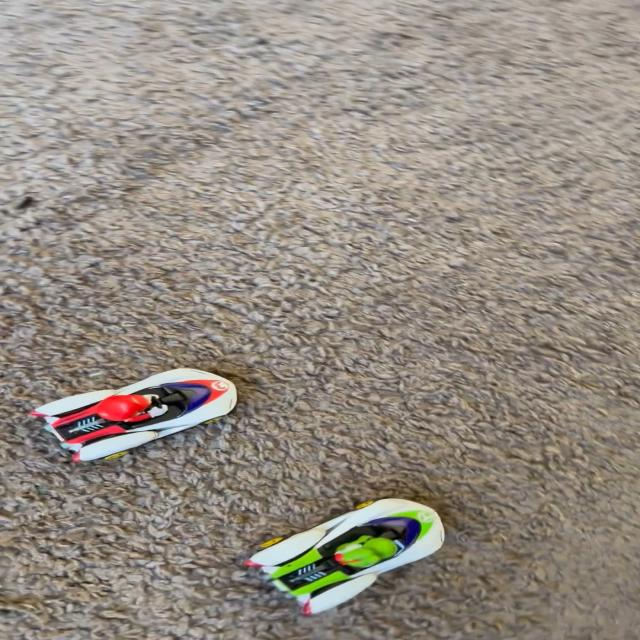mario: (17, 363, 254, 474)
yoshi: (229, 478, 466, 633)
